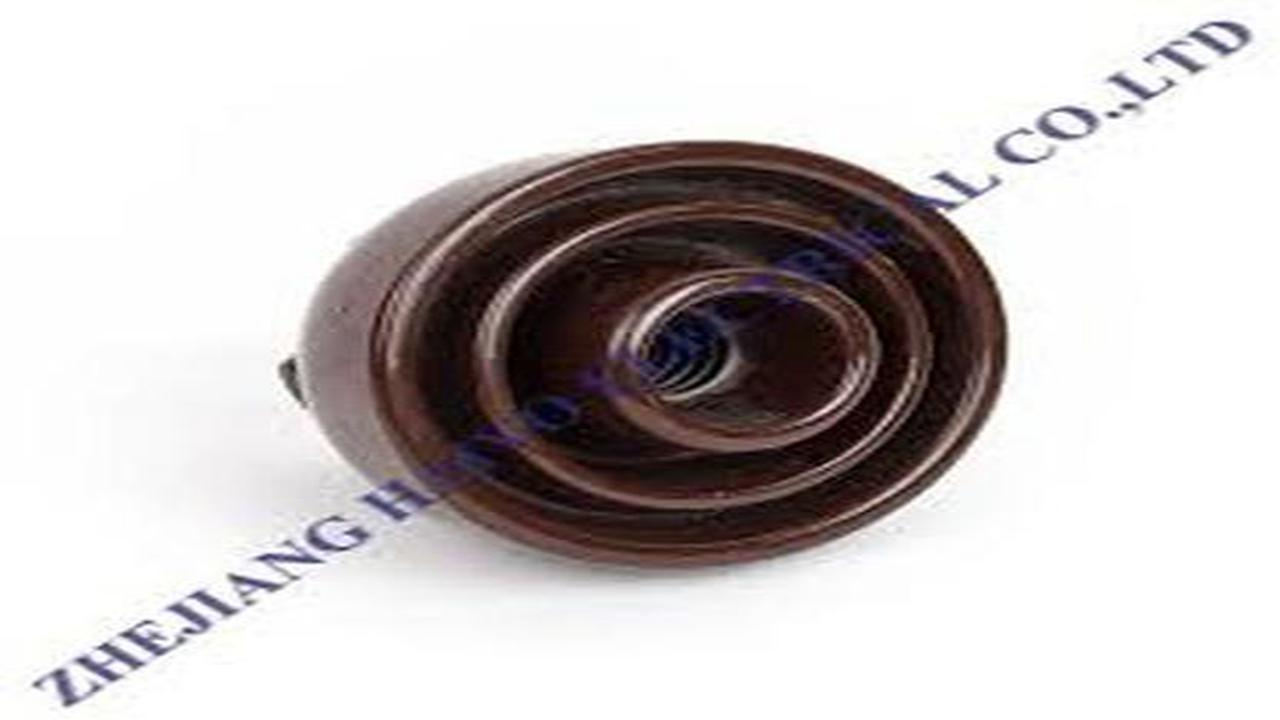insulator_pin: (227, 107, 1044, 589)
